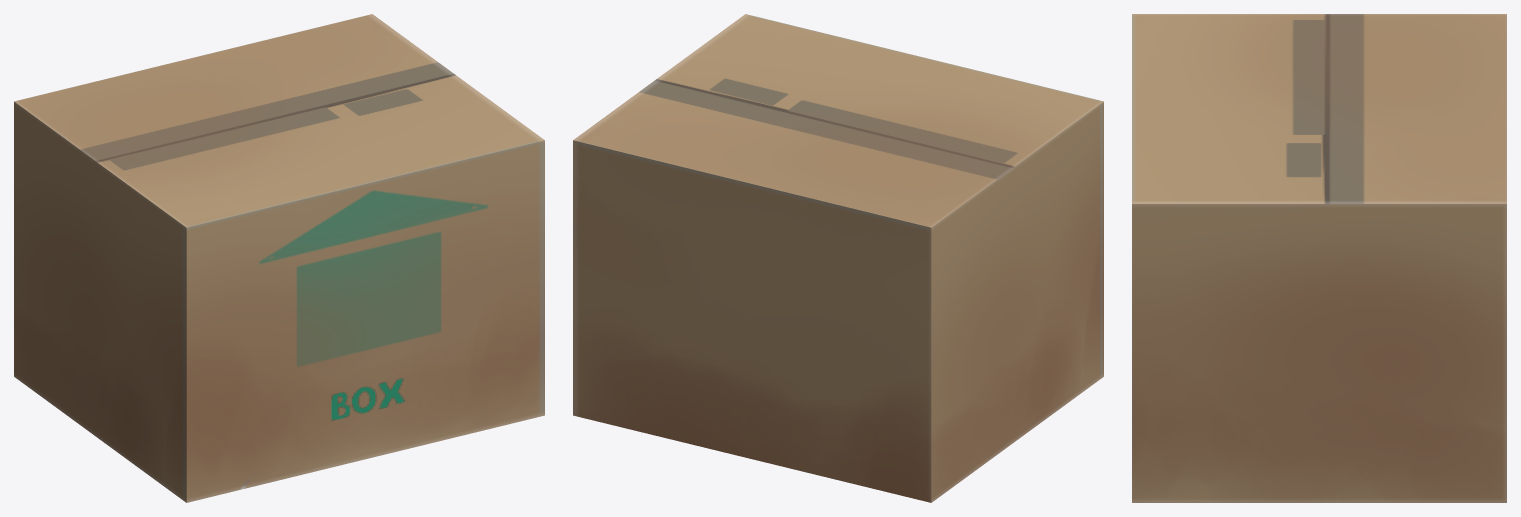
The model's file is MovingBox.fbx.
3 views of the same model, side by side, from view 1: azimuth 30°, elevation 25°; view 2: azimuth 150°, elevation 25°; view 3: azimuth 270°, elevation 25° (orthographic). The views are drawn at different scales.
Parts seen in each view (by area): view 1: pCube6; view 2: pCube6; view 3: pCube6.
Boxes of the visible parts, x1,y1,x2,y2 form: pCube6: (14, 14, 544, 502); pCube6: (573, 14, 1103, 502); pCube6: (1132, 14, 1506, 502).
Bounding box in the file's own units: 1.36 × 1 × 1.14.
